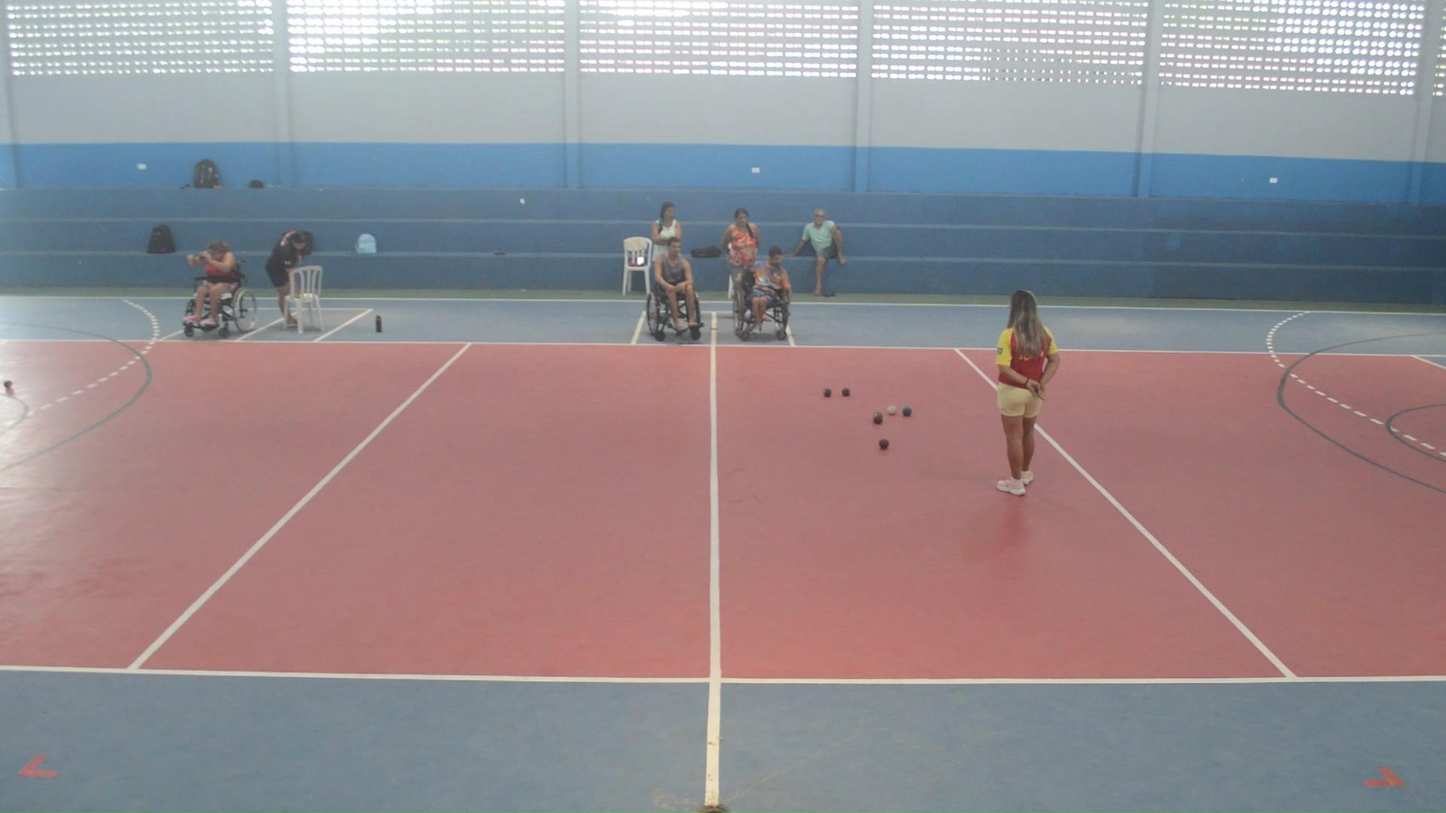blue_ball: (901, 406, 913, 417), (822, 388, 833, 398)
red_ball: (877, 438, 890, 451), (872, 413, 884, 425), (840, 387, 851, 398)
white_ball: (886, 404, 898, 416)
